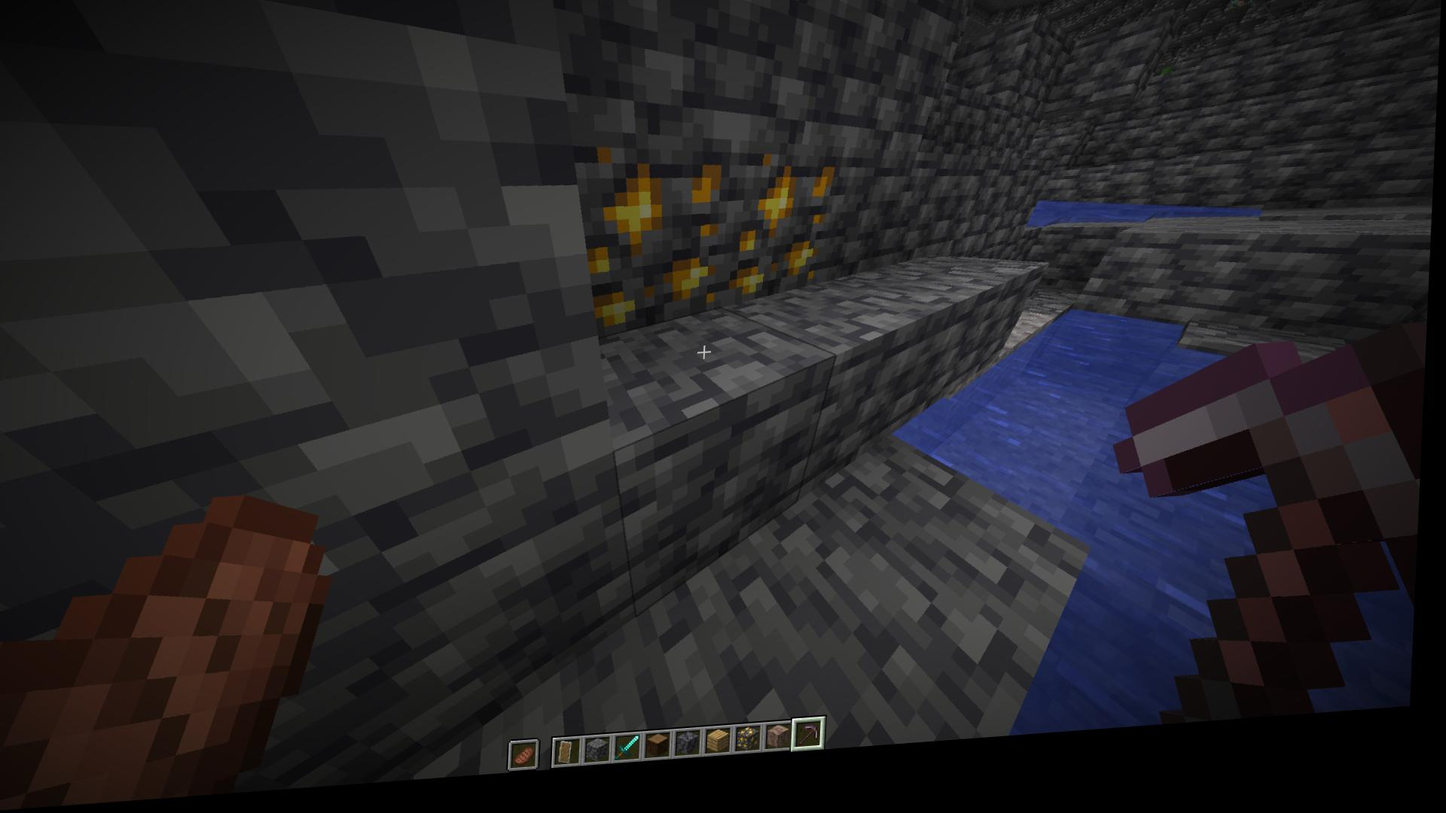gold ore: (580, 143, 734, 341), (728, 146, 837, 316)
